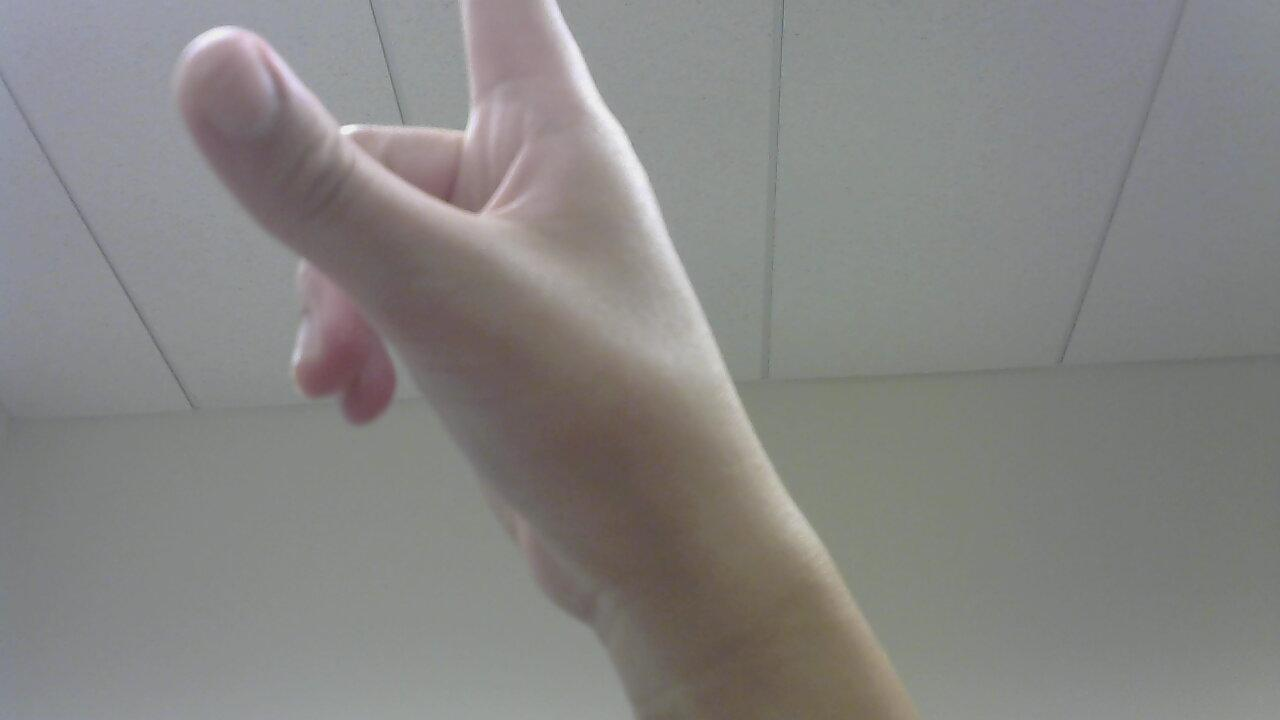hands: (155, 0, 934, 720)
